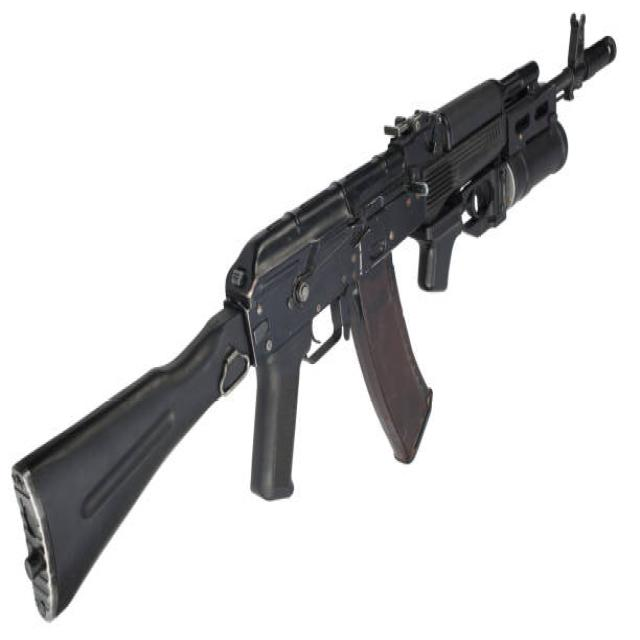rifle: (10, 2, 622, 629)
